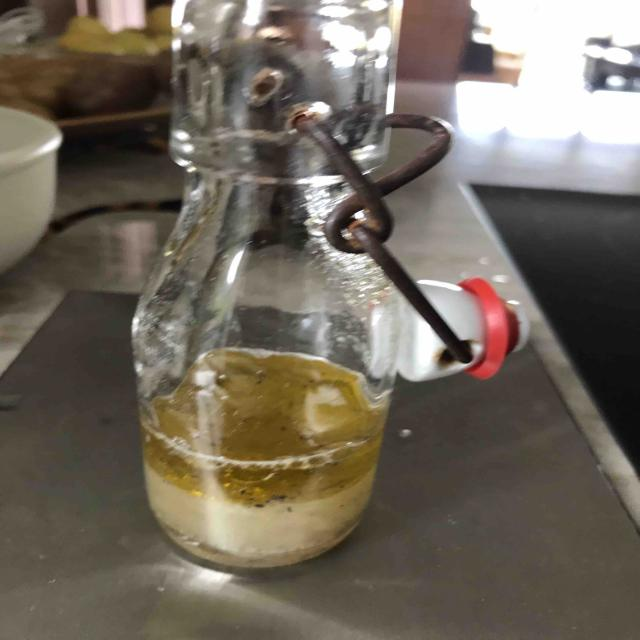oil-vinegar-salad-dressing: (148, 355, 388, 555)
